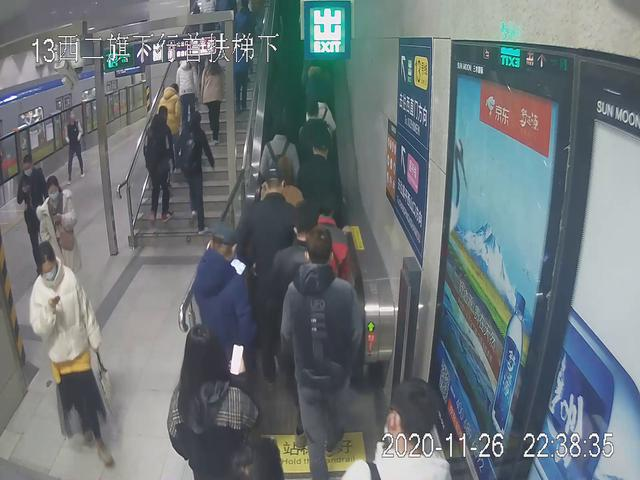person: (26, 240, 129, 470), (283, 230, 373, 480), (165, 324, 271, 480), (188, 221, 266, 424), (34, 171, 91, 295), (16, 156, 63, 298), (175, 108, 219, 237), (139, 105, 181, 228), (54, 108, 91, 181), (199, 52, 225, 146)
